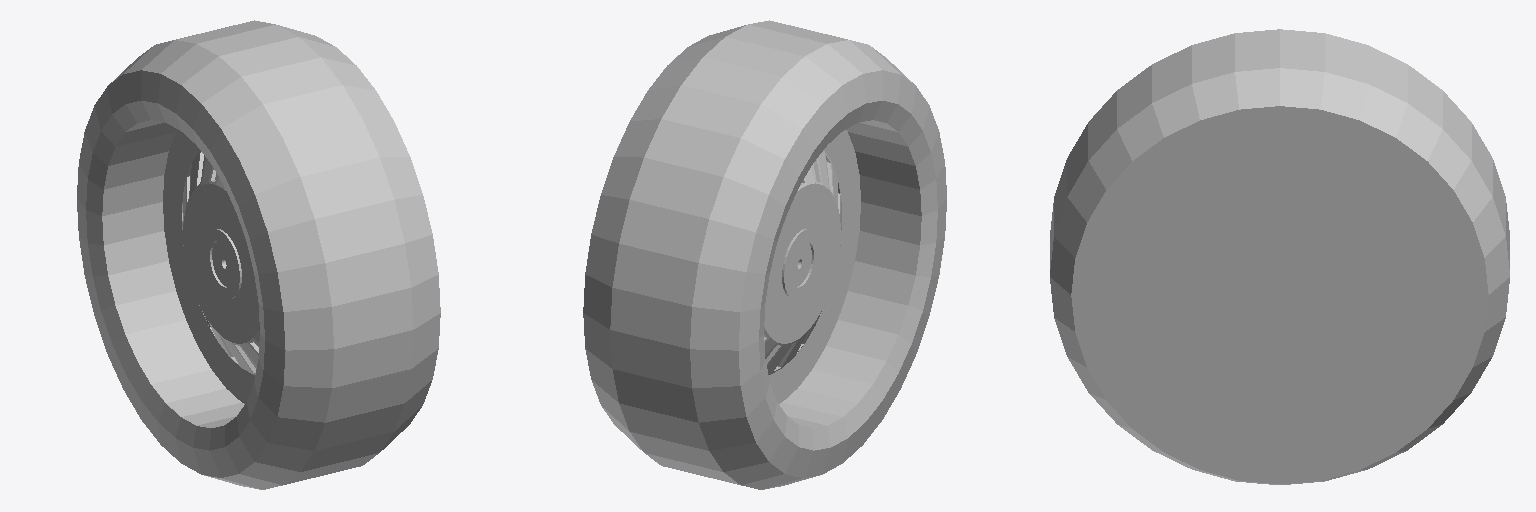
The model's file is WheelCar5_F.obj.
3 views of the same model, side by side, from view 1: azimuth 30°, elevation 25°; view 2: azimuth 150°, elevation 25°; view 3: azimuth 270°, elevation 25° (orthographic).
Parts seen in each view (by area): view 1: wheel; view 2: wheel; view 3: wheel.
Boxes of the visible parts, <box> form: wheel: <box>77,20,440,489</box>; wheel: <box>583,20,946,489</box>; wheel: <box>1050,29,1509,484</box>.
Size of the model in its own units: 0.7302 by 1.81 by 1.81.